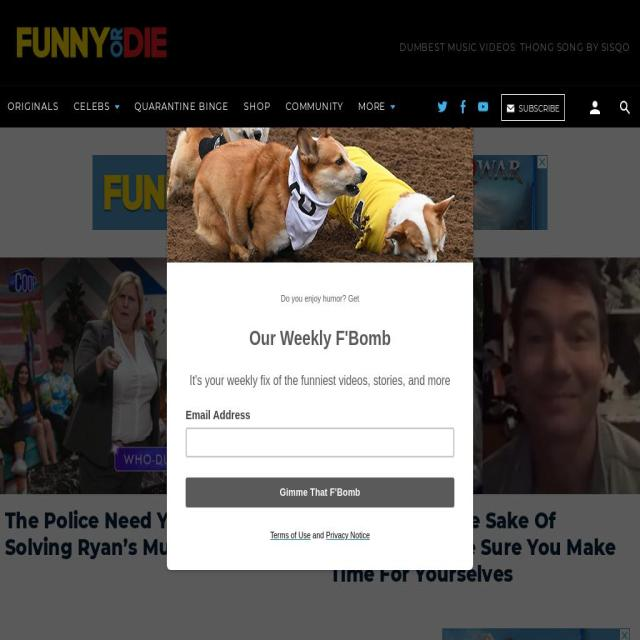button: (0, 258, 315, 494), (325, 258, 640, 494), (10, 27, 167, 58), (127, 86, 237, 127), (278, 86, 350, 127), (0, 86, 66, 127), (66, 86, 128, 127), (350, 86, 403, 127), (501, 94, 565, 122), (236, 86, 278, 127)
heading: (330, 506, 616, 587), (5, 506, 246, 561), (10, 626, 57, 640)
iframe: (167, 96, 473, 571), (92, 155, 548, 230), (442, 627, 629, 640)
image: (0, 0, 640, 640), (0, 258, 315, 494), (325, 258, 640, 494), (16, 27, 167, 58), (590, 100, 600, 114), (438, 100, 448, 113), (458, 100, 468, 113), (478, 100, 488, 113), (507, 104, 514, 115), (390, 104, 396, 110), (115, 104, 120, 110)
link: (399, 40, 630, 53)
text: (517, 103, 559, 115), (73, 100, 113, 112), (358, 100, 388, 112)
